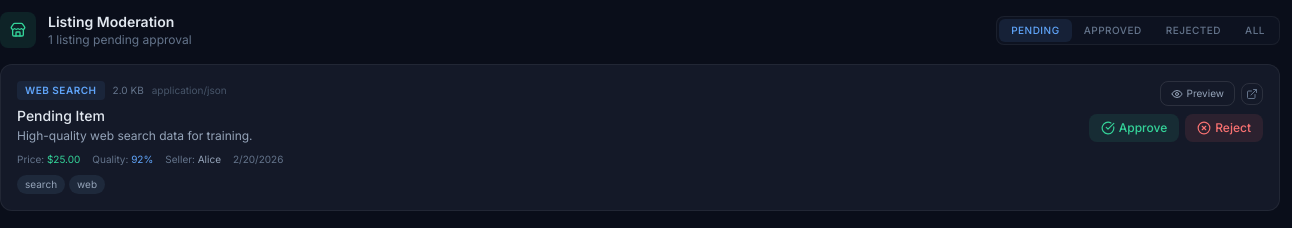
ListingModeration › status tabs filter listings - rejected tab
Click the button "rejected": (1193, 30) [1154,18,1233,42]
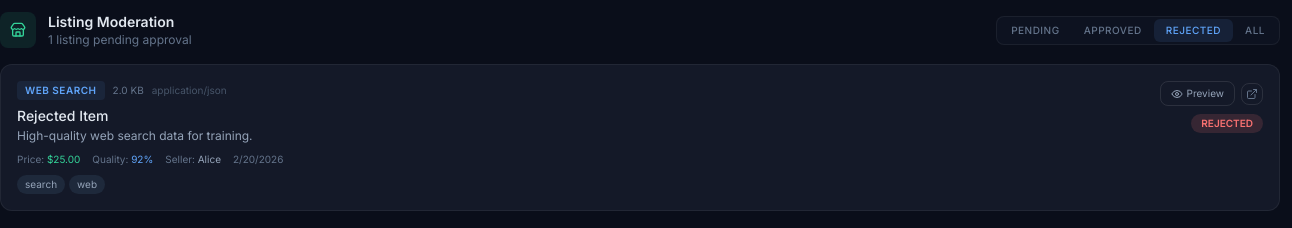
Result: the heading "Pending Item" is gone
Result: the heading "Rejected Item" is shown at [17,107,108,124]
